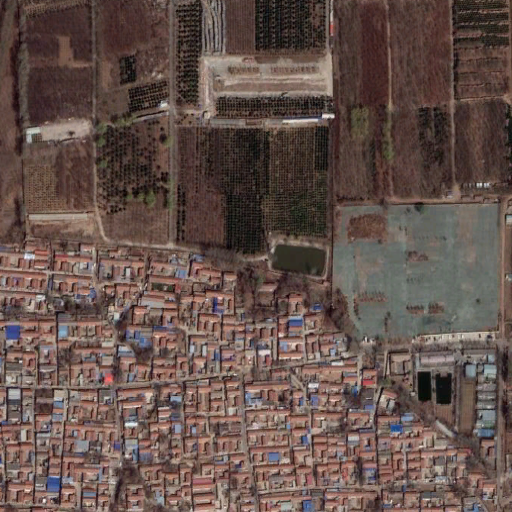cw: (334, 204, 501, 343)
